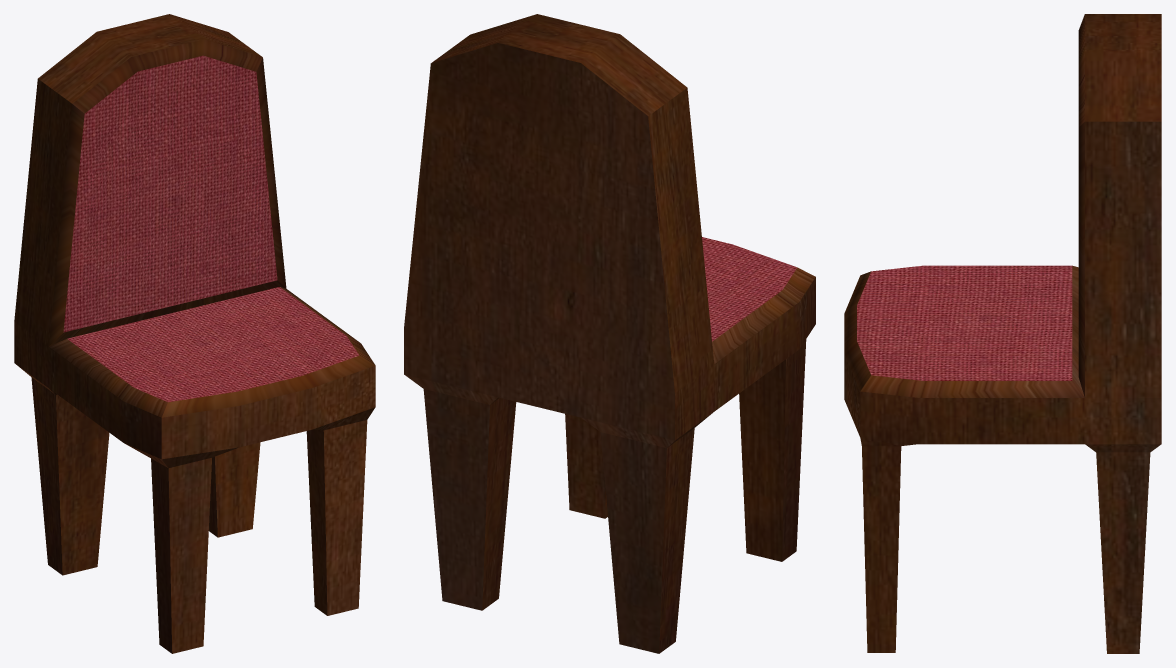
Rendered from Chair_Red.fbx.
3 views of the same model, side by side, from view 1: azimuth 30°, elevation 25°; view 2: azimuth 150°, elevation 25°; view 3: azimuth 270°, elevation 25° (orthographic). The views are drawn at different scales.
Visible parts, largest first — view 1: chair_red; view 2: chair_red; view 3: chair_red.
Part boxes in pixels (box(x1,y1,x2,y2)): chair_red: box(14, 14, 375, 653); chair_red: box(404, 14, 815, 653); chair_red: box(844, 14, 1161, 653).
Size of the model in its own units: 0.6948 by 1.43 by 0.7228.
